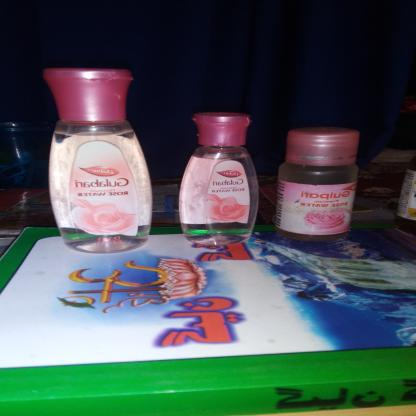bottle: (42, 67, 155, 257), (177, 112, 265, 250), (273, 129, 362, 245)
